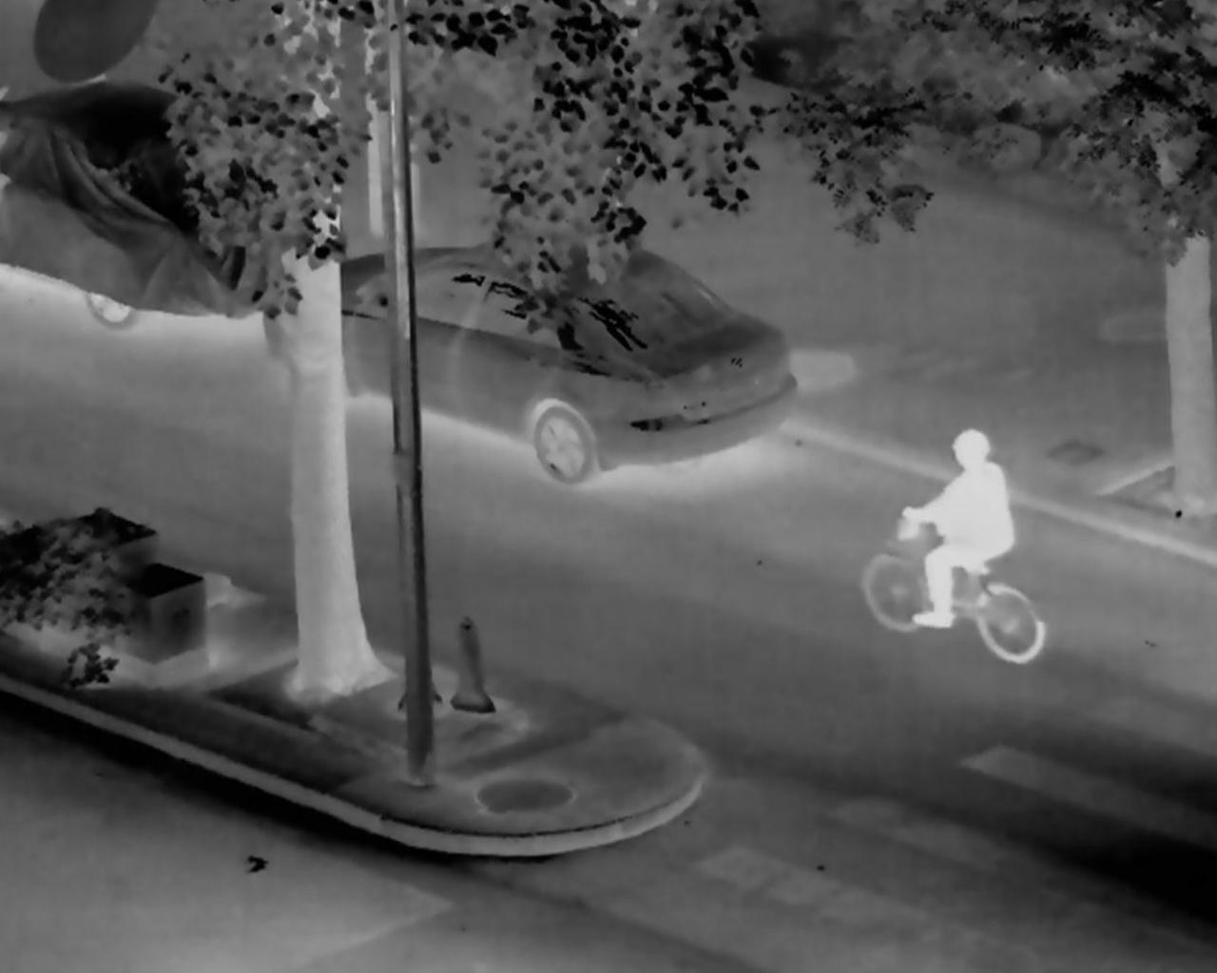person: (906, 429, 1015, 629)
